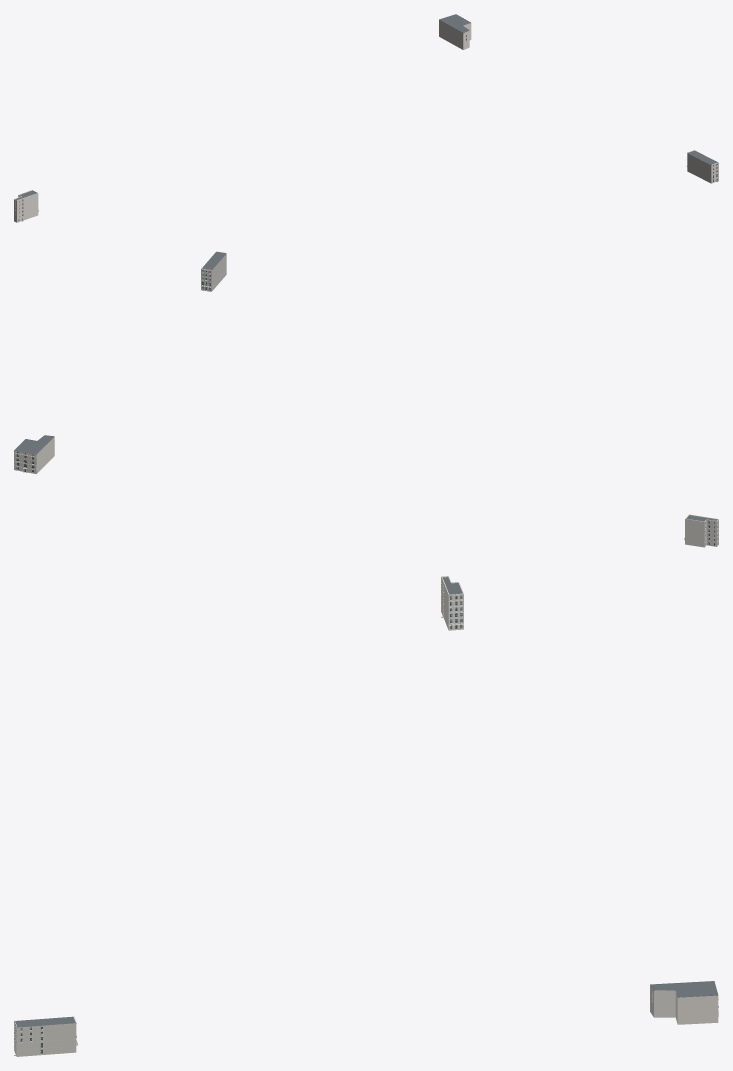
File: replacement.glb
3 views of the same model, one above another, from view 1: azimuth 30°, elevation 25°; view 2: azimuth 150°, elevation 25°; view 3: azimuth 270°, elevation 25° (orthographic). The views are drawn at different scales.
Visible parts, largest first — view 1: 46 Princes Gardens | pierced wall piers, 5 Queens Gate | pierced masonry, 26 Princes Gate | pierced masonry; view 2: 5 Queens Gate | pierced masonry, 26 Princes Gate | pierced masonry; view 3: 46 Princes Gardens | pierced wall piers, 26 Princes Gate | pierced masonry.
Boxes of the visible parts, <box> form: 46 Princes Gardens | pierced wall piers: <box>687,153,718,183</box>; 5 Queens Gate | pierced masonry: <box>14,191,38,222</box>; 26 Princes Gate | pierced masonry: <box>439,22,471,49</box>; 5 Queens Gate | pierced masonry: <box>685,515,718,547</box>; 26 Princes Gate | pierced masonry: <box>14,439,54,473</box>; 46 Princes Gardens | pierced wall piers: <box>14,1022,76,1056</box>; 26 Princes Gate | pierced masonry: <box>650,988,718,1024</box>.
Size of the model in its own units: 531 by 19.9 by 355.
